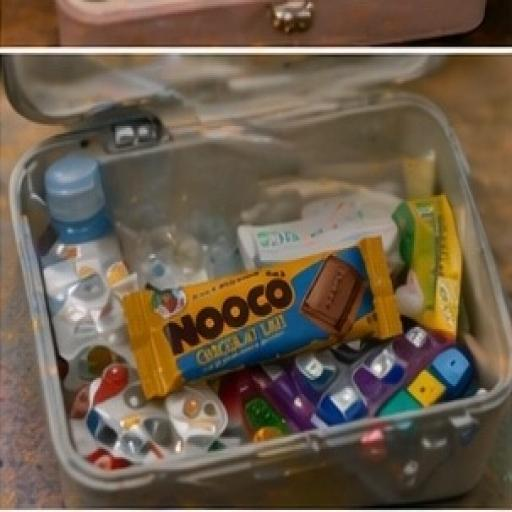nooco: (114, 255, 429, 377)
